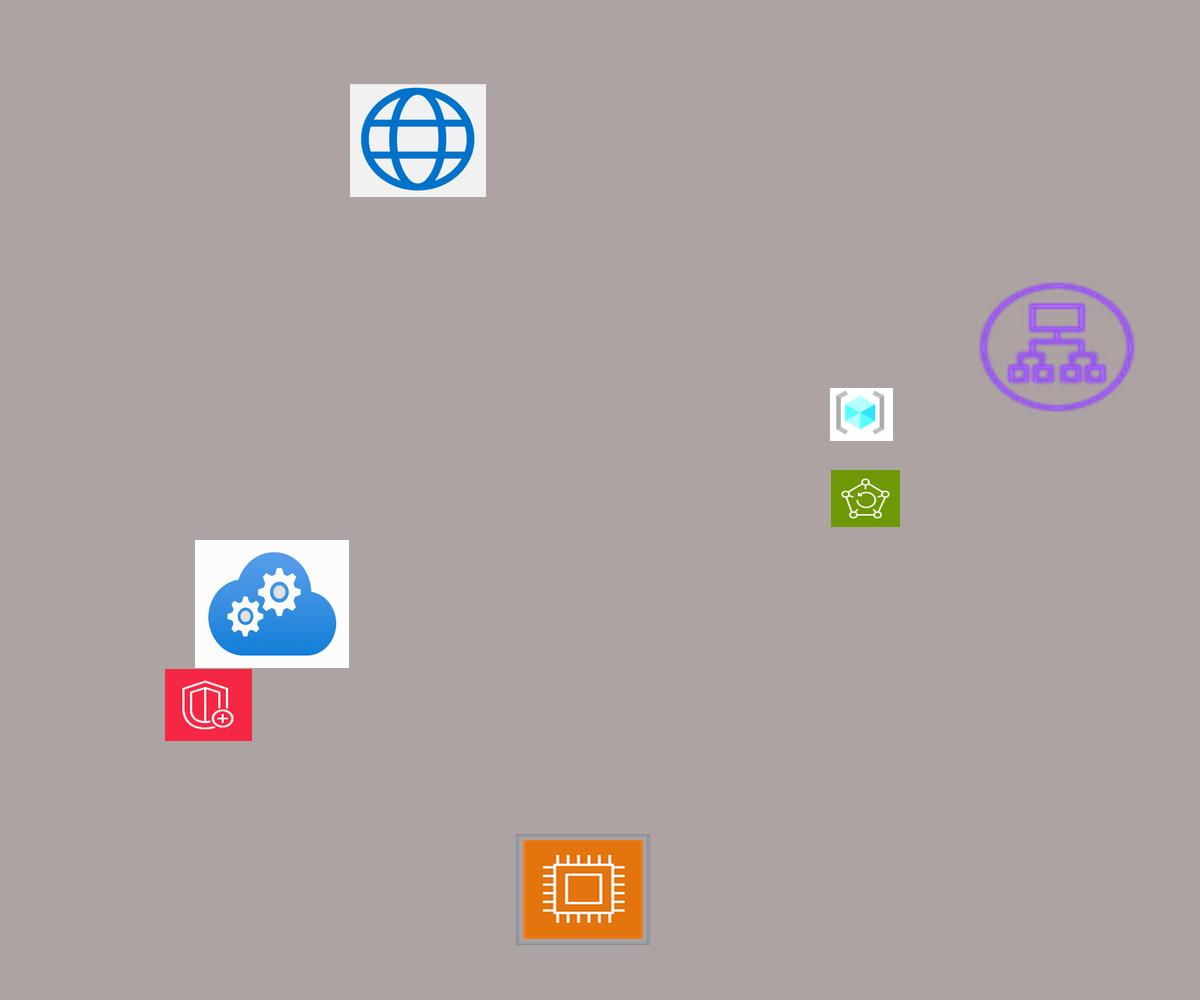AWS-Backup: (831, 470, 900, 527)
AWS-Category_Compute: (516, 834, 650, 945)
AWS-Res_Elastic-Load-Balancing_Application-Load-Balancer: (973, 277, 1141, 417)
AWS-Shield: (165, 669, 252, 741)
Azure_cloud_services: (195, 540, 349, 668)
Azure_http: (350, 84, 486, 197)
Azure_resource_group: (830, 388, 893, 441)
